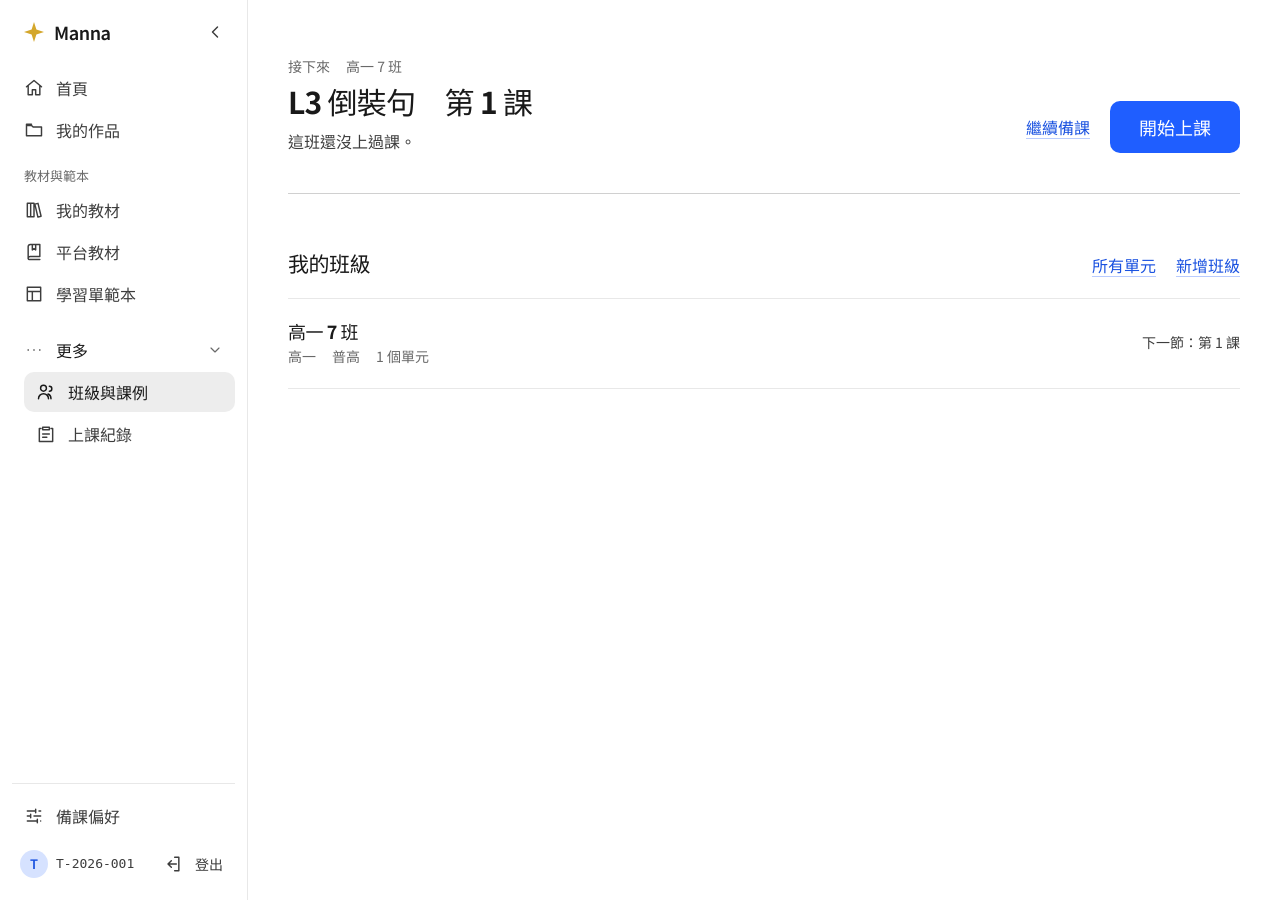
it: 班級 (home) › 繼續備課 opens the lesson in that class
The image size is (1280, 900).
Step 1. Click the link "繼續備課" → (1058, 128), box [1026, 115, 1090, 140]
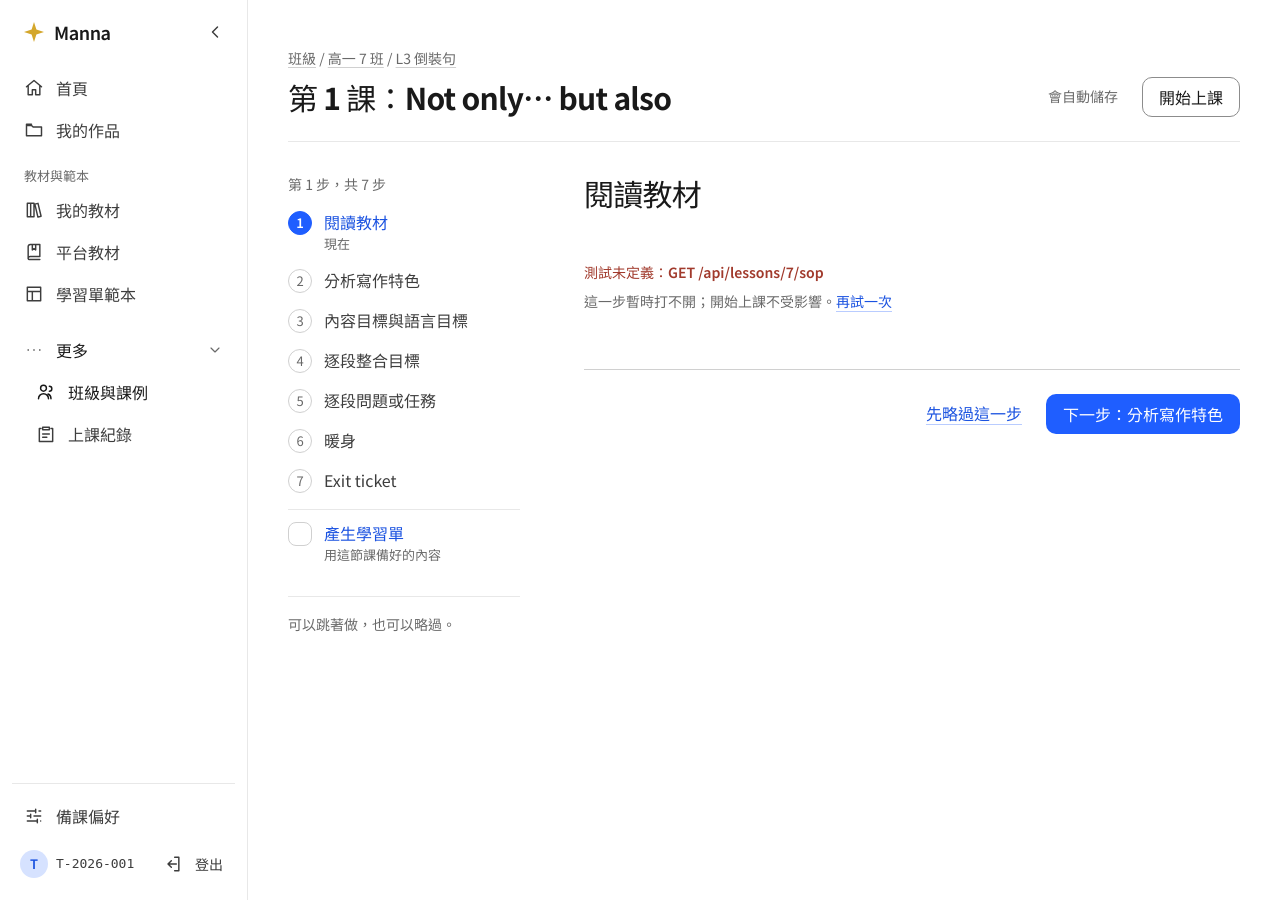
Check: the heading "第 1 課：Not only… but also" is shown, box [288, 78, 671, 117]
